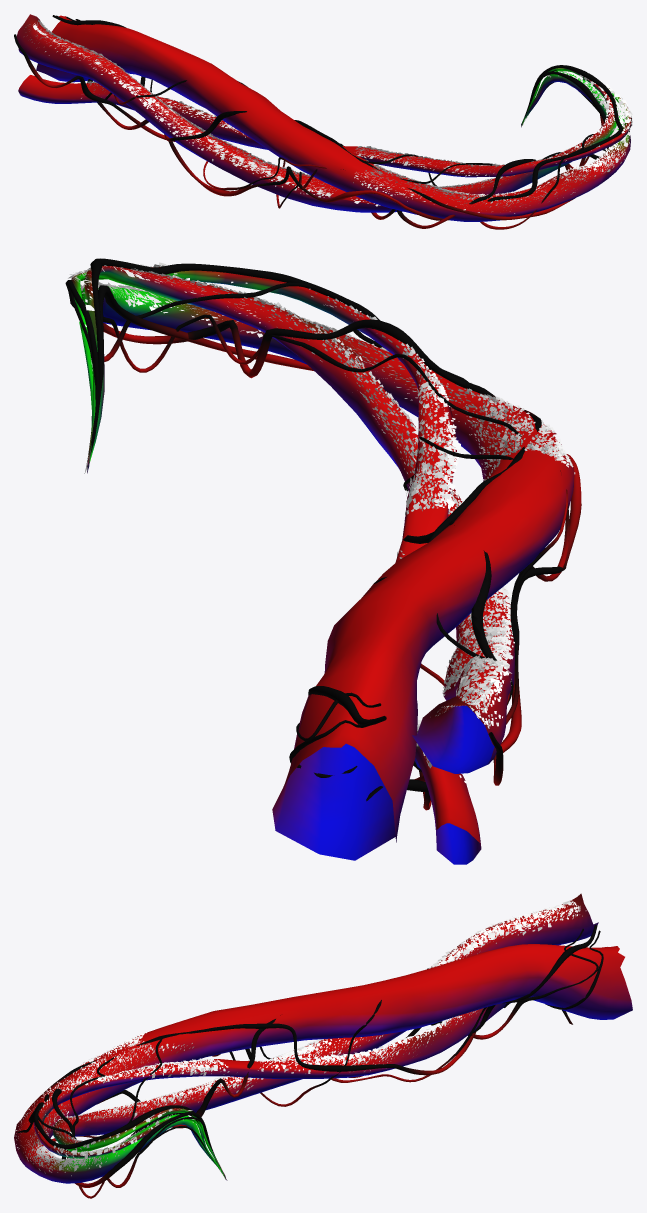
3 renders of one model, top to bottom at view 1: azimuth 30°, elevation 25°; view 2: azimuth 150°, elevation 25°; view 3: azimuth 270°, elevation 25°, orthographic. The views are drawn at different scales.
Visible parts, largest first — view 1: root_1_mesh; view 2: root_1_mesh; view 3: root_1_mesh.
Part boxes in pixels (bbox=[...]): root_1_mesh: bbox=[14, 14, 632, 229]; root_1_mesh: bbox=[65, 258, 581, 864]; root_1_mesh: bbox=[14, 893, 632, 1198].
Size of the model in its own units: 7080 by 2087 by 8021.
